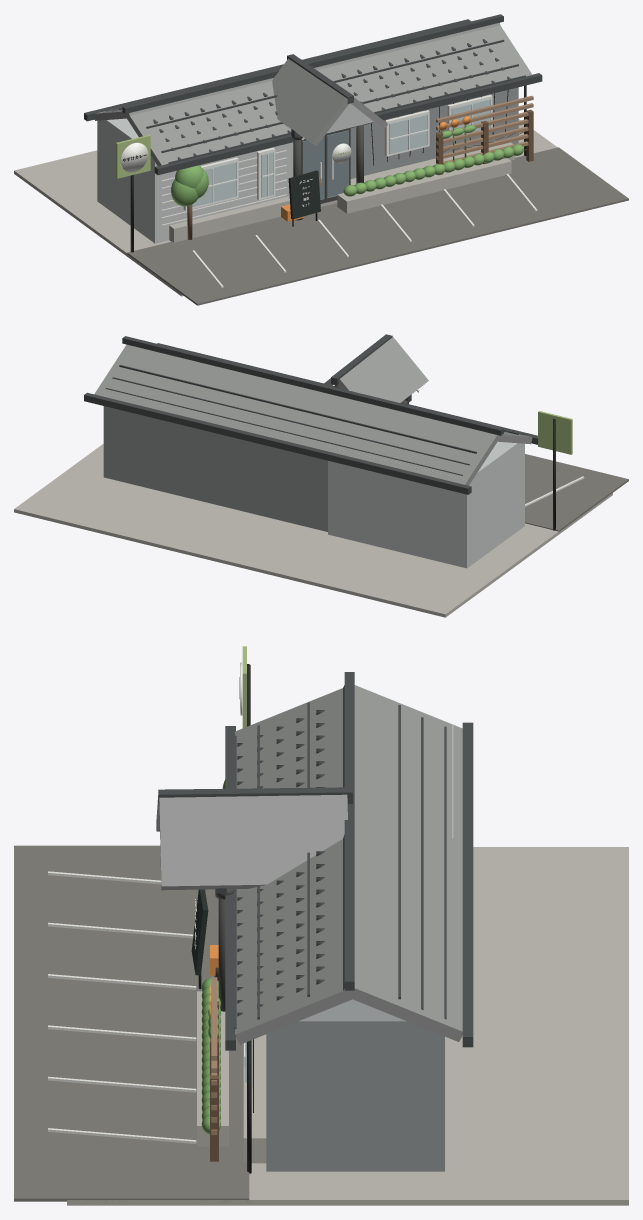
File: yasuke.glb
3 views of the same model, one above another, from view 1: azimuth 30°, elevation 25°; view 2: azimuth 150°, elevation 25°; view 3: azimuth 270°, elevation 25° (orthographic). The views are drawn at different scales.
Parts seen in each view (by area): view 1: YSC1_Parking, YSC1_MainRoofFrontSlope, YSC1_LeftBuilding, YSC1_Ground, YSC1_EntranceRoofLeftSlope, YSC1_RightBuilding, YSC1_MainRoofRidge, YSC1_FrontPlantBed, YSC1_Foundation, YSC1_MainRoofFrontEdge, YSC1_DoorOuterFrame, YSC1_RightWindow_1_Frame (+26 smaller); view 2: YSC1_Ground, YSC1_MainRoofBackSlope, YSC1_RightBuilding, YSC1_LeftBuilding, YSC1_Parking, YSC1_MainRoofBackEdge, YSC1_MainRoofRidge, YSC1_EntranceRoofLeftSlope, YSC1_RoundSignSquareBase, YSC1_RoofTileLine_7, YSC1_RoofTileLine_8, YSC1_RoofTileLine_9 (+2 smaller); view 3: YSC1_Ground, YSC1_Parking, YSC1_MainRoofBackSlope, YSC1_RightBuilding, YSC1_MainRoofFrontSlope, YSC1_EntranceRoofRightSlope, YSC1_MainRoofBackEdge, YSC1_MainRoofRidge, YSC1_Foundation, YSC1_MainRoofFrontEdge, YSC1_FrontPlantBed, YSC1_EntranceRoofRidge (+5 smaller).
Part boxes in pixels (x1,y1,x2,y2): YSC1_Parking: [127, 147, 628, 305]; YSC1_MainRoofFrontSlope: [125, 25, 532, 165]; YSC1_LeftBuilding: [97, 111, 293, 243]; YSC1_Ground: [14, 119, 557, 296]; YSC1_EntranceRoofLeftSlope: [272, 58, 348, 146]; YSC1_RightBuilding: [350, 87, 518, 178]; YSC1_MainRoofRidge: [122, 14, 503, 113]; YSC1_FrontPlantBed: [337, 157, 511, 213]; YSC1_Foundation: [169, 142, 515, 242]; YSC1_MainRoofFrontEdge: [154, 73, 542, 175]; YSC1_DoorOuterFrame: [301, 128, 350, 203]; YSC1_RightWindow_1_Frame: [384, 110, 429, 156]; YSC1_Ground: [14, 444, 612, 617]; YSC1_MainRoofBackSlope: [94, 344, 500, 485]; YSC1_RightBuilding: [103, 406, 327, 531]; YSC1_LeftBuilding: [328, 441, 524, 568]; YSC1_Parking: [525, 454, 628, 531]; YSC1_MainRoofBackEdge: [84, 392, 471, 494]; YSC1_MainRoofRidge: [122, 336, 503, 435]; YSC1_EntranceRoofLeftSlope: [338, 337, 428, 402]; YSC1_RoundSignSquareBase: [538, 411, 572, 454]; YSC1_RoofTileLine_7: [119, 365, 476, 453]; YSC1_RoofTileLine_8: [112, 377, 469, 465]; YSC1_RoofTileLine_9: [105, 388, 462, 475]; YSC1_Ground: [67, 847, 628, 1205]; YSC1_Parking: [14, 845, 249, 1201]; YSC1_MainRoofBackSlope: [341, 685, 462, 1041]; YSC1_RightBuilding: [266, 999, 444, 1171]; YSC1_MainRoofFrontSlope: [235, 688, 357, 1044]; YSC1_EntranceRoofRightSlope: [159, 794, 347, 890]; YSC1_MainRoofBackEdge: [462, 722, 473, 1047]; YSC1_MainRoofRidge: [344, 672, 354, 990]; YSC1_Foundation: [243, 1034, 266, 1163]; YSC1_MainRoofFrontEdge: [225, 726, 235, 1050]; YSC1_FrontPlantBed: [197, 991, 228, 1146]; YSC1_EntranceRoofRidge: [158, 787, 352, 805].
Bounding box in the file's own units: 11.31 × 3.22 × 8.1.
